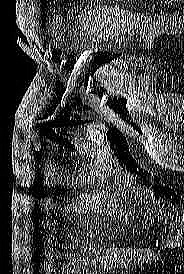plane: (15, 35, 136, 149)
